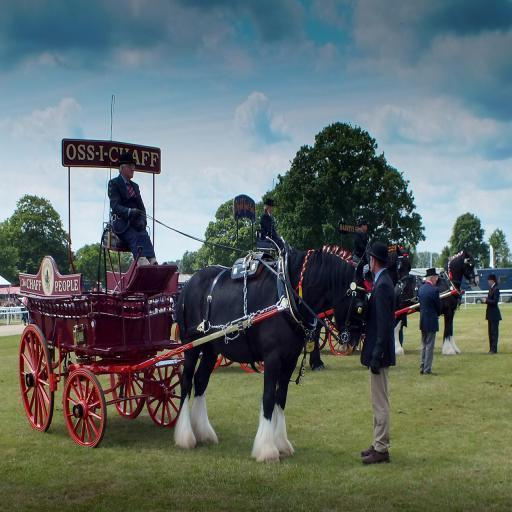horse: (172, 242, 368, 464), (392, 246, 481, 356)
